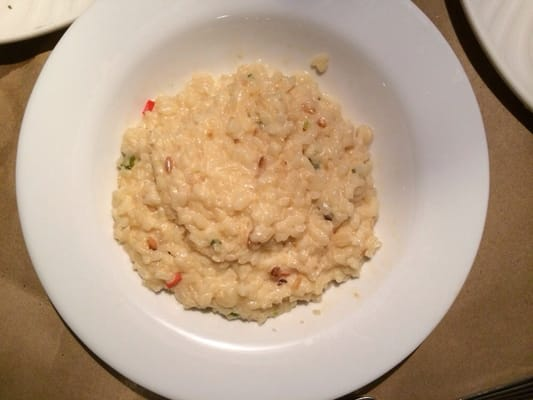sushi: (112, 63, 382, 321)
